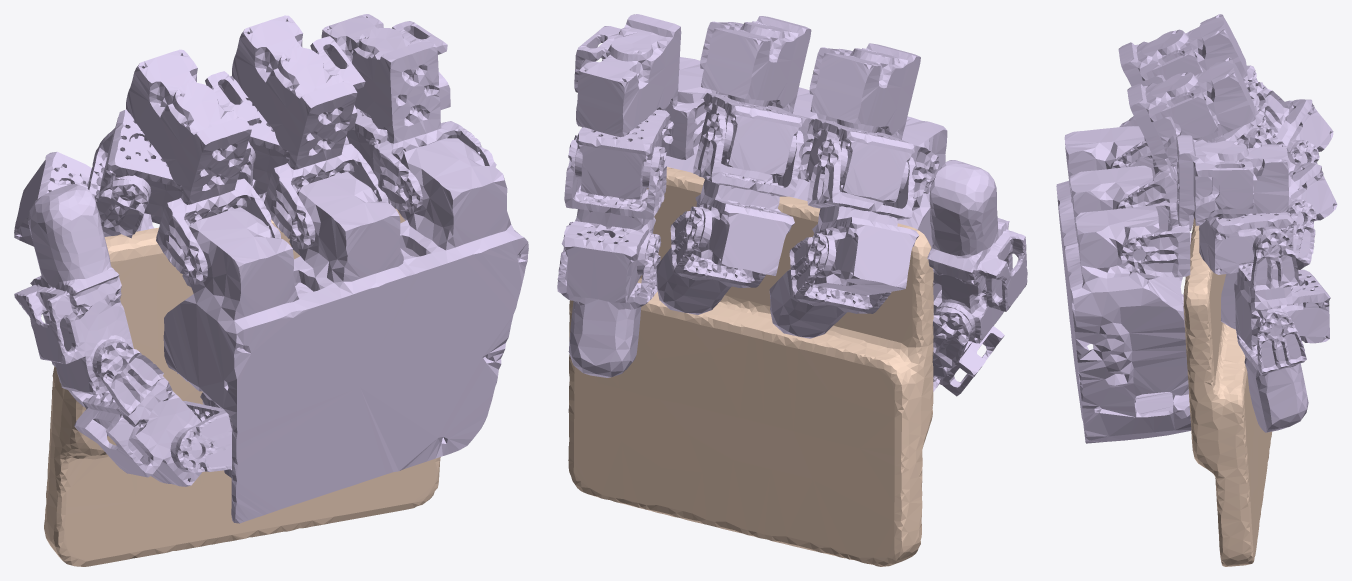
File: d733fba7965228-closed.glb
The picture shows the model from 3 angles, left to right: view 1: azimuth 30°, elevation 25°; view 2: azimuth 150°, elevation 25°; view 3: azimuth 270°, elevation 25°; orthographic projection. The views are drawn at different scales.
Parts seen in each view (by area): view 1: LEAP_hand, world; view 2: LEAP_hand, world; view 3: LEAP_hand, world.
Part boxes in pixels (left/top/right/bottom): LEAP_hand: left=14, top=14, right=528, bottom=523; world: left=44, top=208, right=440, bottom=566; LEAP_hand: left=557, top=14, right=1027, bottom=396; world: left=568, top=166, right=933, bottom=566; LEAP_hand: left=1056, top=14, right=1337, bottom=443; world: left=1183, top=217, right=1271, bottom=566.
Size of the model in its own units: 0.1782 by 0.2023 by 0.117.
